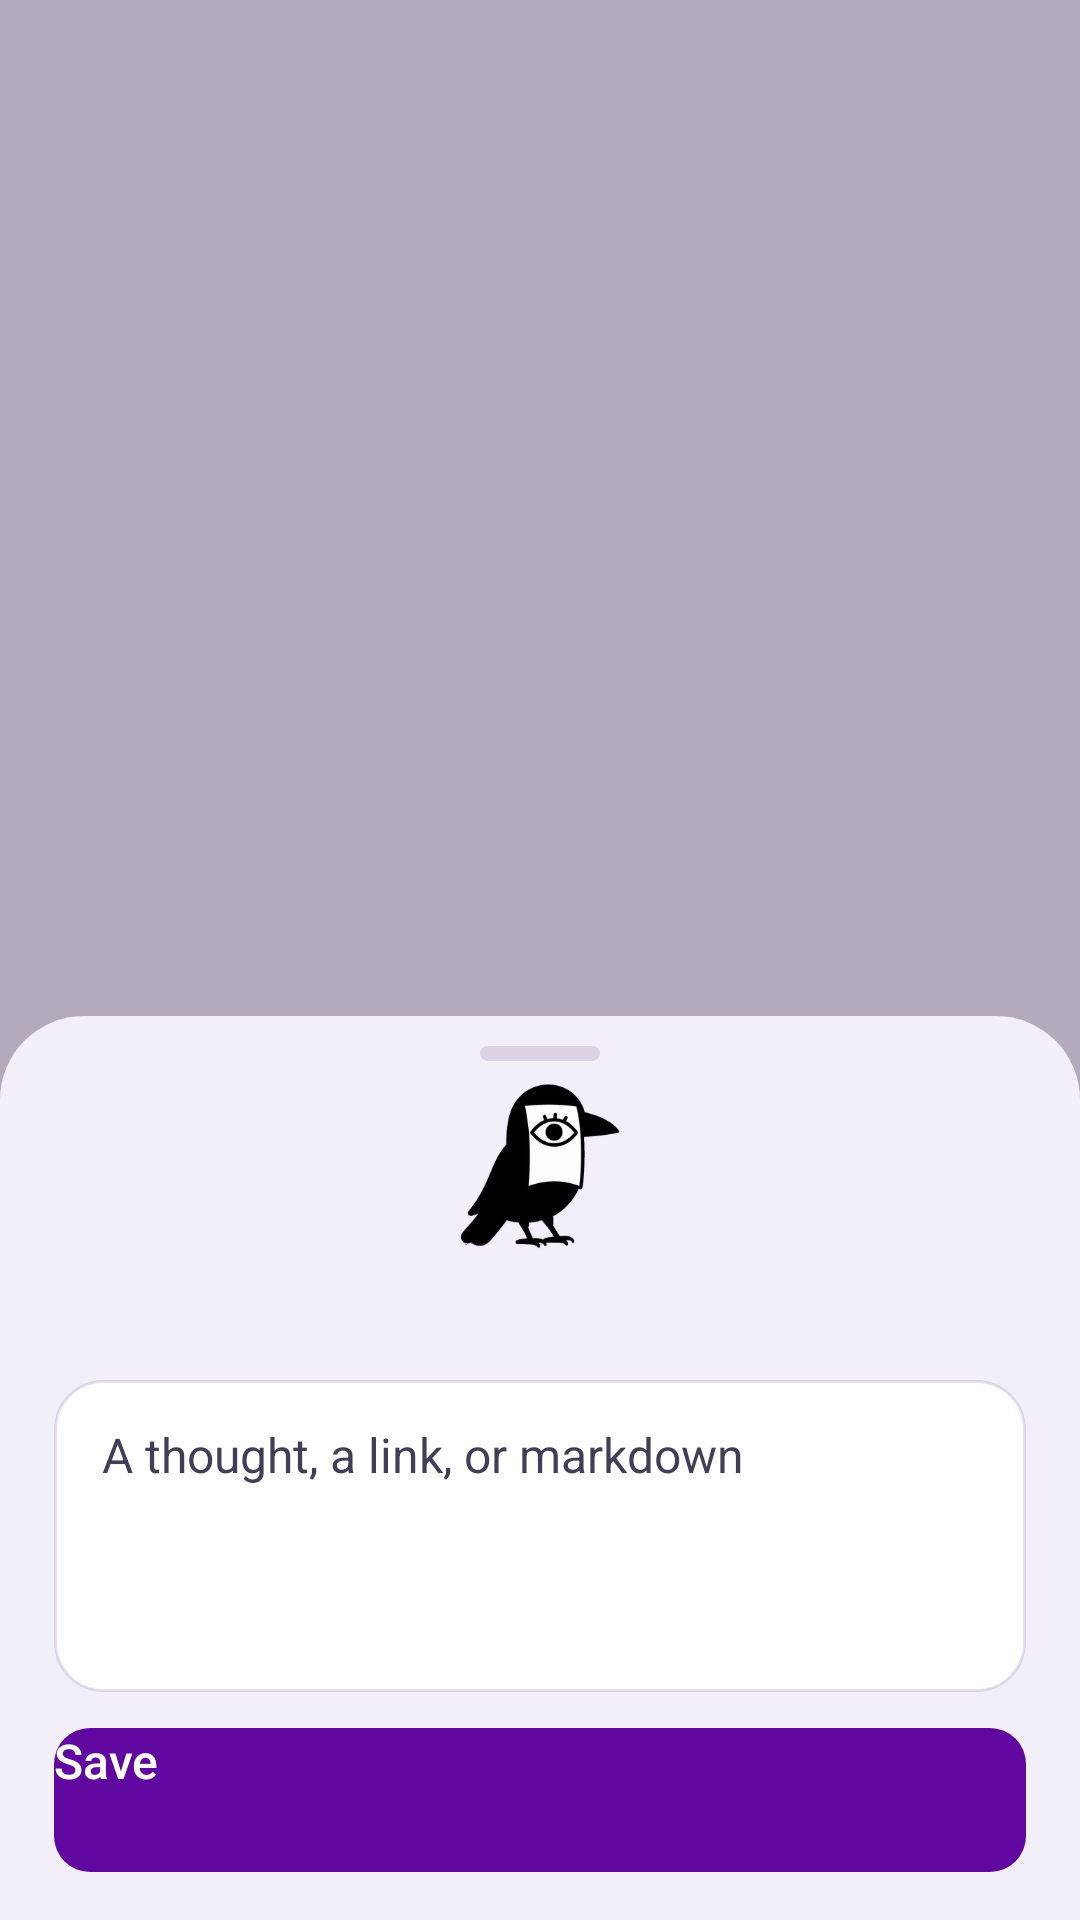

Named icons in this screenshot (1080×1920) and their centers, [x,y]:
raven mark: [540,1166]
